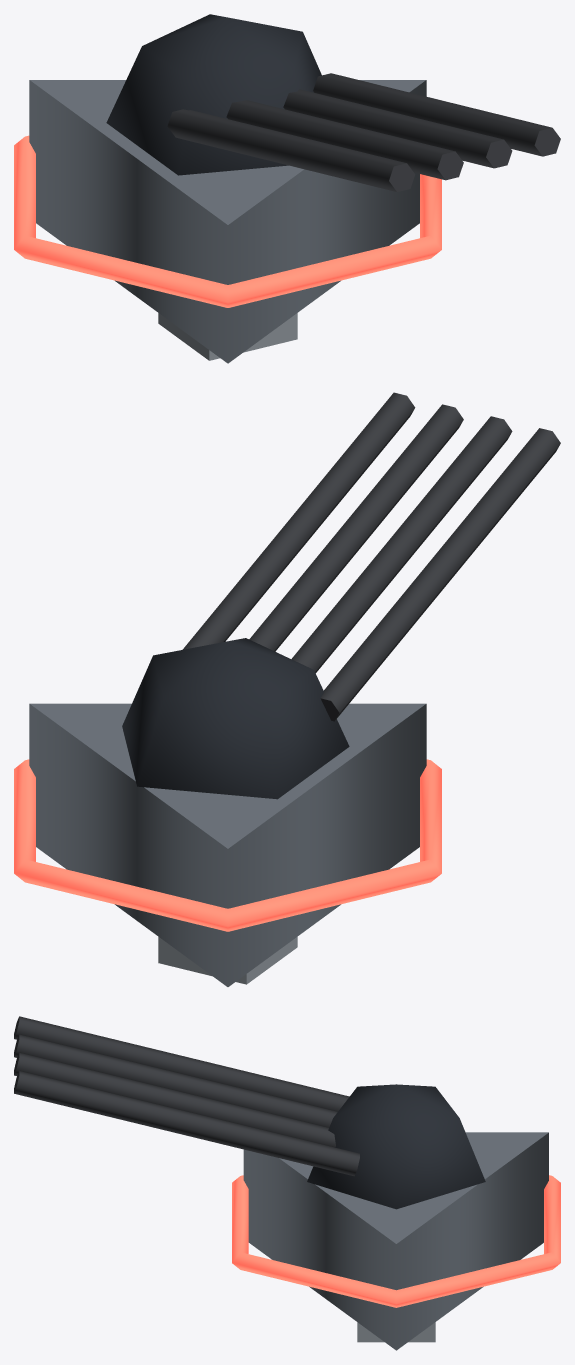
The model's file is space_orbital_battery_t3_lod2.glb.
3 views of the same model, one above another, from view 1: azimuth 30°, elevation 25°; view 2: azimuth 150°, elevation 25°; view 3: azimuth 270°, elevation 25° (orthographic). The views are drawn at different scales.
Visible parts, largest first — view 1: body, turret; view 2: body, turret; view 3: body, turret.
Boxes of the visible parts, bbox=[...] form: body: bbox=[14, 80, 441, 363]; turret: bbox=[106, 14, 560, 191]; body: bbox=[14, 703, 441, 986]; turret: bbox=[122, 392, 560, 799]; body: bbox=[232, 1132, 560, 1350]; turret: bbox=[14, 1016, 485, 1209].
Bounding box in the file's own units: 9.7 × 7.88 × 13.96.
